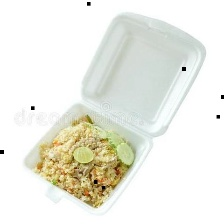foam_box: (15, 7, 209, 219)
